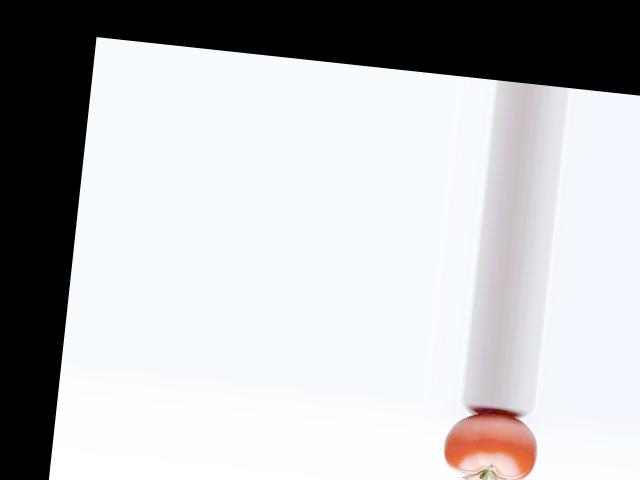tomato: (440, 409, 540, 480)
